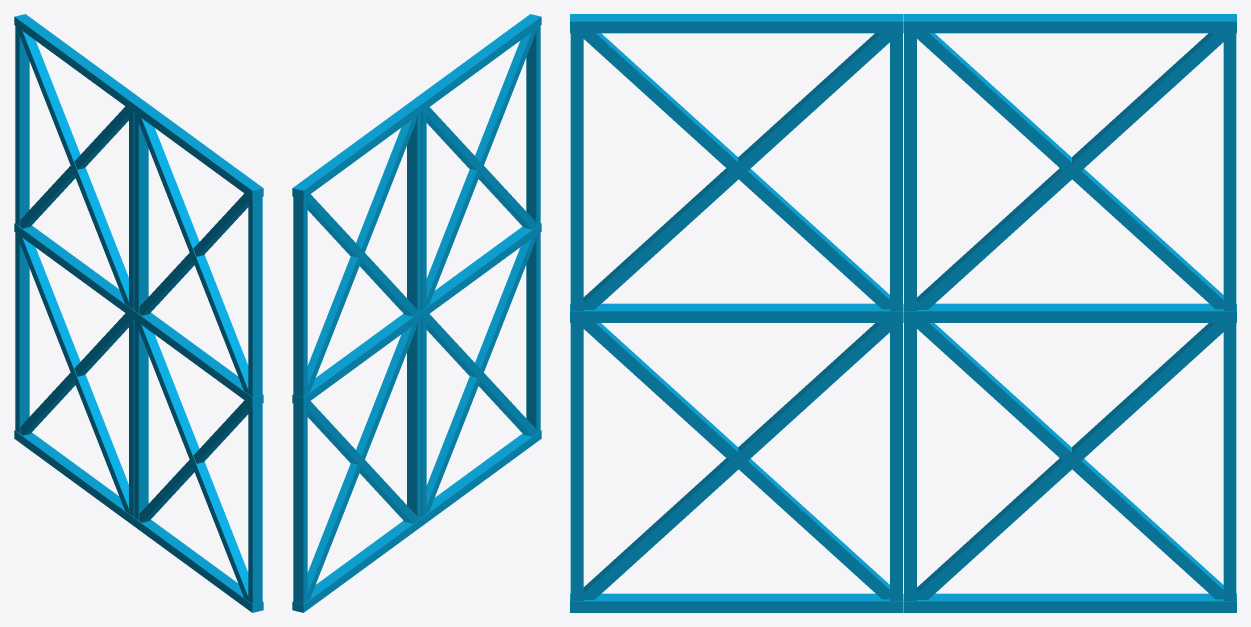
Rendered from Metal_Square_x4.fbx.
3 views of the same model, side by side, from view 1: azimuth 30°, elevation 25°; view 2: azimuth 150°, elevation 25°; view 3: azimuth 270°, elevation 25° (orthographic). The views are drawn at different scales.
Visible parts, largest first — view 1: Metal_Square_x4; view 2: Metal_Square_x4; view 3: Metal_Square_x4.
Part boxes in pixels (x1=…): Metal_Square_x4: x1=14, y1=14, x2=263, y2=612; Metal_Square_x4: x1=292, y1=14, x2=541, y2=612; Metal_Square_x4: x1=570, y1=14, x2=1236, y2=612.
Size of the model in its own units: 16.2 by 587 by 600.
